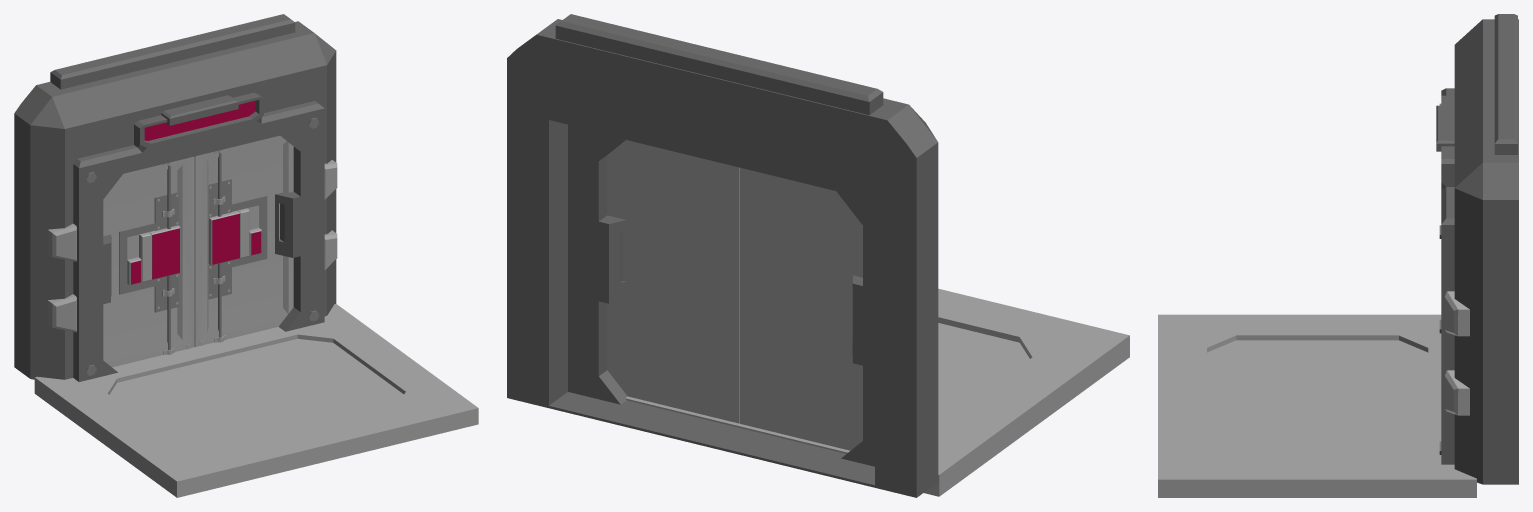
Rendered from porte usine.fbx.
3 renders of one model, left to right at view 1: azimuth 30°, elevation 25°; view 2: azimuth 150°, elevation 25°; view 3: azimuth 270°, elevation 25°, orthographic. The views are drawn at different scales.
Parts seen in each view (by area): view 1: bordure, sol, porte_droite, porte_gauche; view 2: bordure, porte_droite, porte_gauche, sol; view 3: sol, bordure.
Boxes of the visible parts, x1,y1,x2,y2 form: bordure: (14,14,337,381); sol: (34,304,478,497); porte_droite: (194,135,293,346); porte_gauche: (103,156,194,367); bordure: (507,14,938,497); porte_droite: (607,140,739,423); porte_gauche: (740,167,862,450); sol: (625,288,1129,496); sol: (1158,314,1476,497); bordure: (1436,14,1518,484).
Size of the model in its own units: 3.11 by 2.94 by 2.83.
